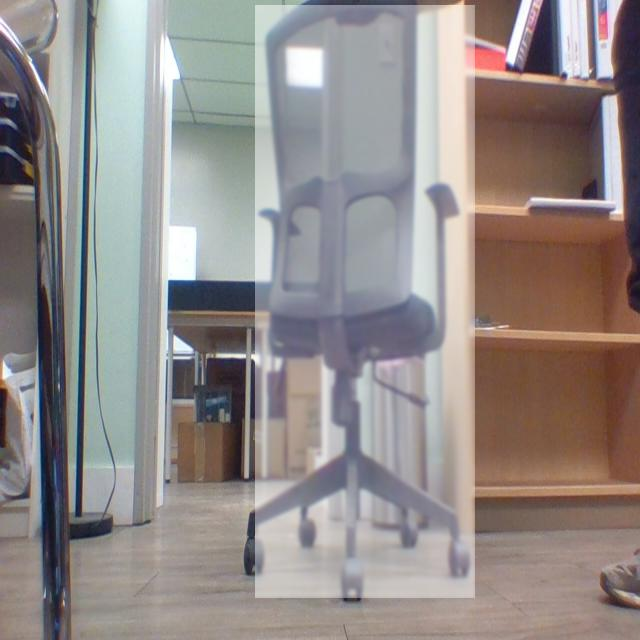black-chair: (255, 5, 476, 599)
